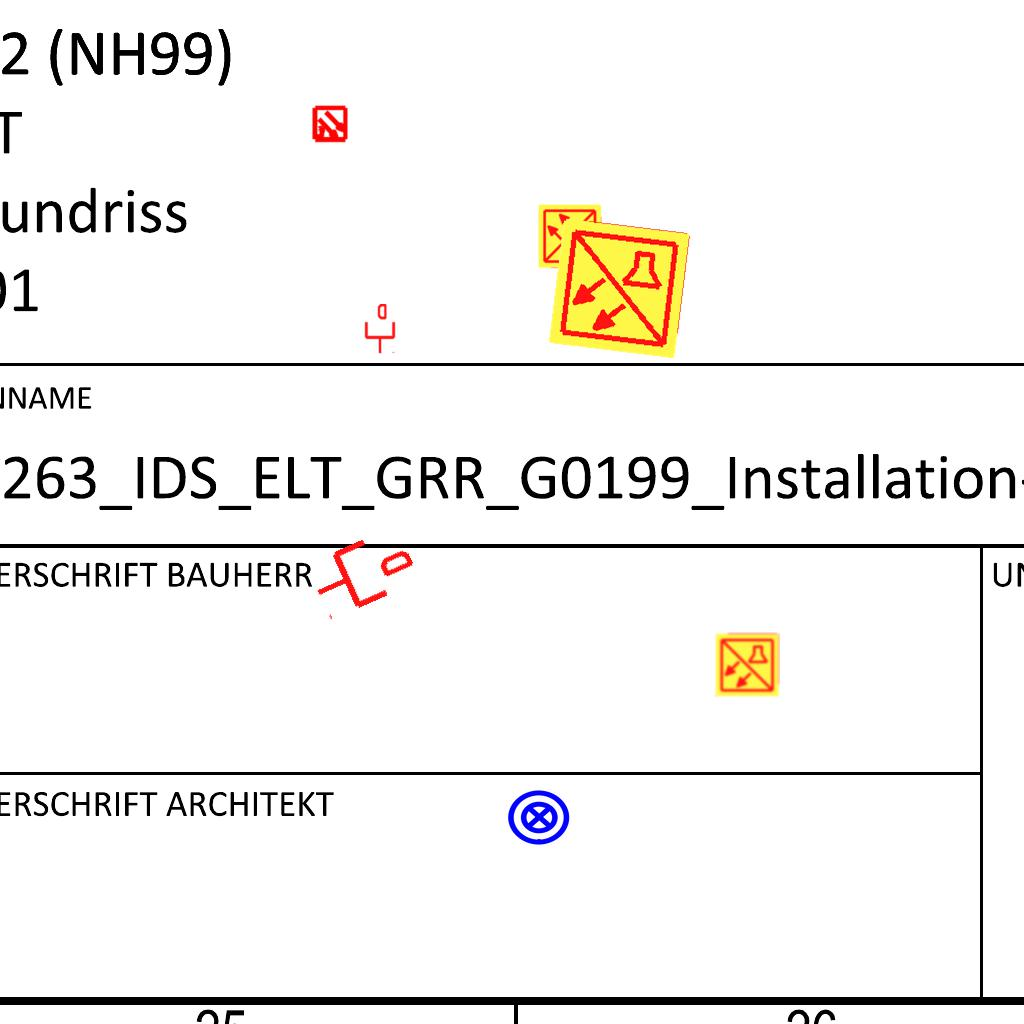Datenanschluss_einfach: (302, 521, 423, 625), (363, 304, 397, 354)
OKW_Multisensormelder_(Kombination_optischer_Rauch-Kahlenmonoxid_Waerme-Melder): (545, 214, 693, 362), (714, 632, 780, 698), (537, 203, 603, 269)
OT_Multisensormelder_(Kombination_RMO_WMD): (302, 97, 358, 153)
Taster_beleuchtet: (506, 784, 572, 850)
